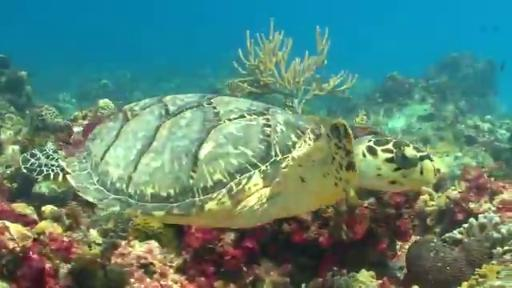Fish: (22, 94, 438, 227)
